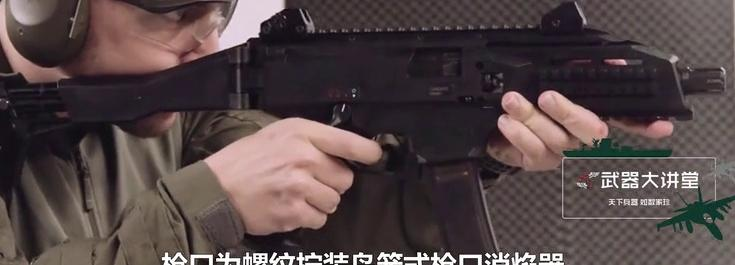gun: (1, 0, 735, 265)
